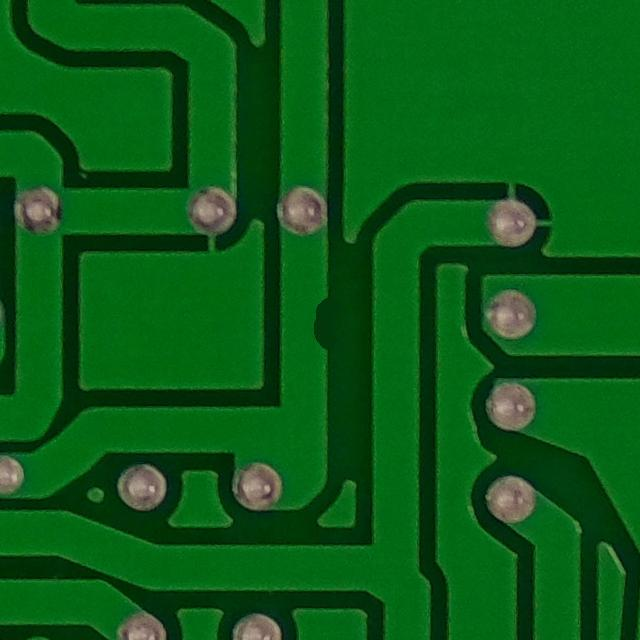mouse_bite: (295, 284, 346, 357)
